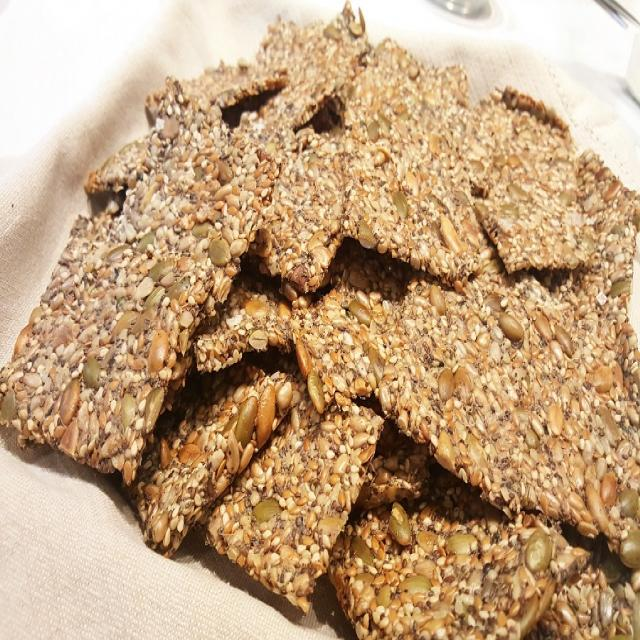Cracker: (15, 234, 221, 490), (328, 106, 478, 280), (476, 143, 596, 289)
